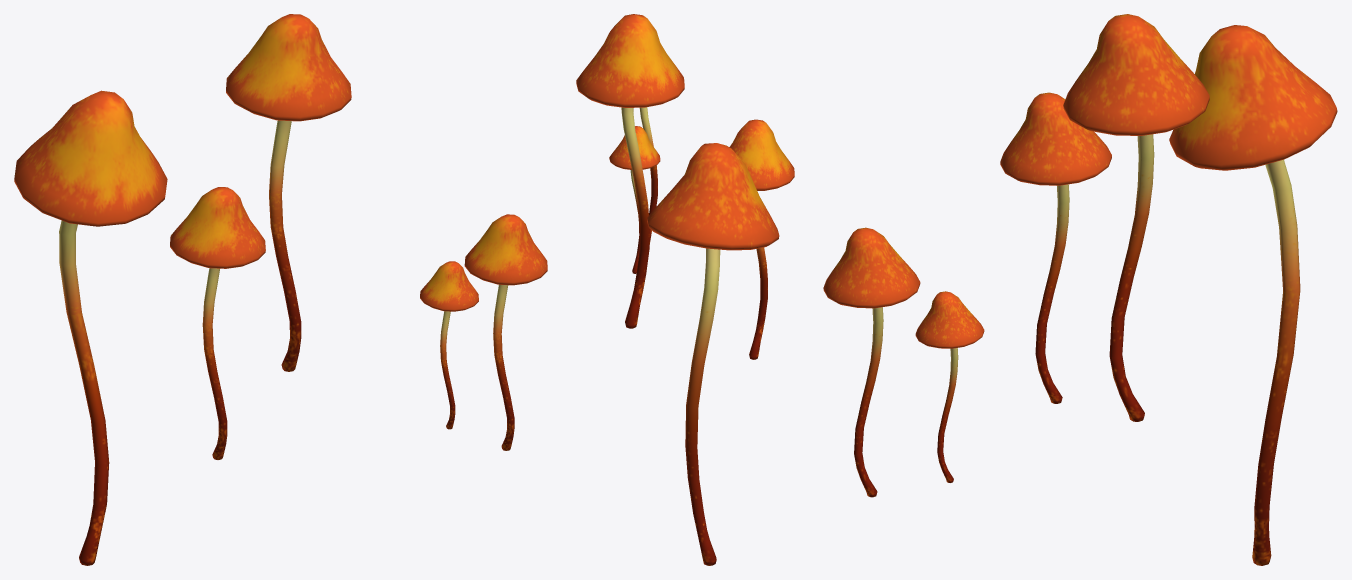
Rendered from Cartoon Seaweed_13-1-6.fbx.
The picture shows the model from 3 angles, left to right: view 1: azimuth 30°, elevation 25°; view 2: azimuth 150°, elevation 25°; view 3: azimuth 270°, elevation 25°; orthographic projection. The views are drawn at different scales.
Visible parts, largest first — view 1: Cartoon Seaweed_13.1.6; view 2: Cartoon Seaweed_13.1.6; view 3: Cartoon Seaweed_13.1.6.
Boxes of the visible parts, x1,y1,x2,y2 form: Cartoon Seaweed_13.1.6: (14, 14, 547, 565); Cartoon Seaweed_13.1.6: (576, 14, 794, 565); Cartoon Seaweed_13.1.6: (823, 14, 1337, 565).
Size of the model in its own units: 19.8 by 30.11 by 22.26.
Materials: 1 (1 with a texture image).
